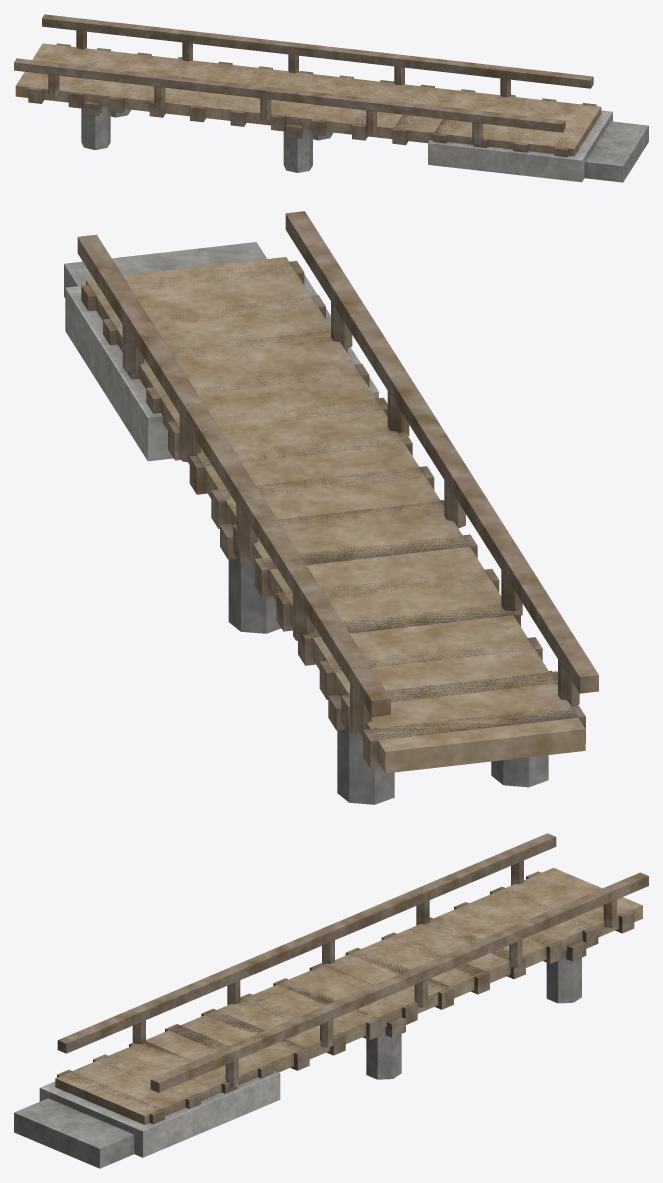
File: bridge_short.glb
3 renders of one model, top to bottom at view 1: azimuth 30°, elevation 25°; view 2: azimuth 150°, elevation 25°; view 3: azimuth 270°, elevation 25°, orthographic. The views are drawn at different scales.
Parts seen in each view (by area): view 1: dilek; view 2: dilek; view 3: dilek.
Boxes of the visible parts, x1,y1,x2,y2 form: dilek: (14, 14, 648, 182); dilek: (64, 211, 598, 804); dilek: (14, 833, 648, 1168).
Bounding box in the file's own units: 2.61 × 0.445 × 2.61.
Materials: 1 (1 with a texture image).
